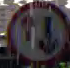Two way: (6, 3, 69, 60)
